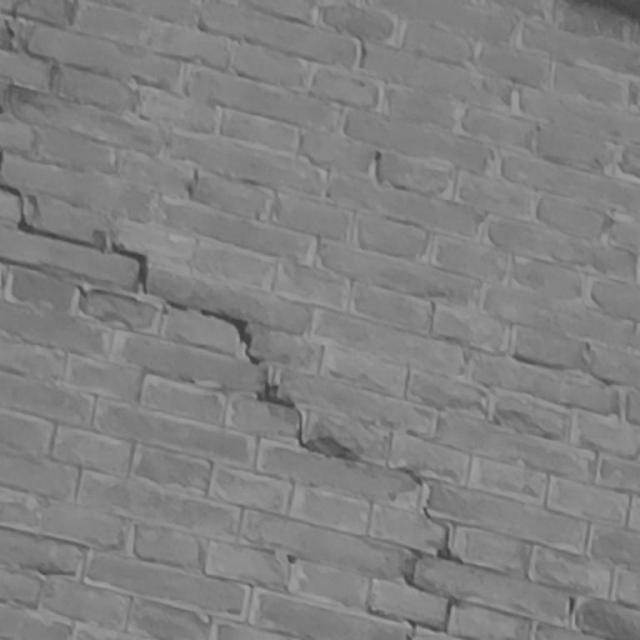crack: (1, 183, 462, 640)
